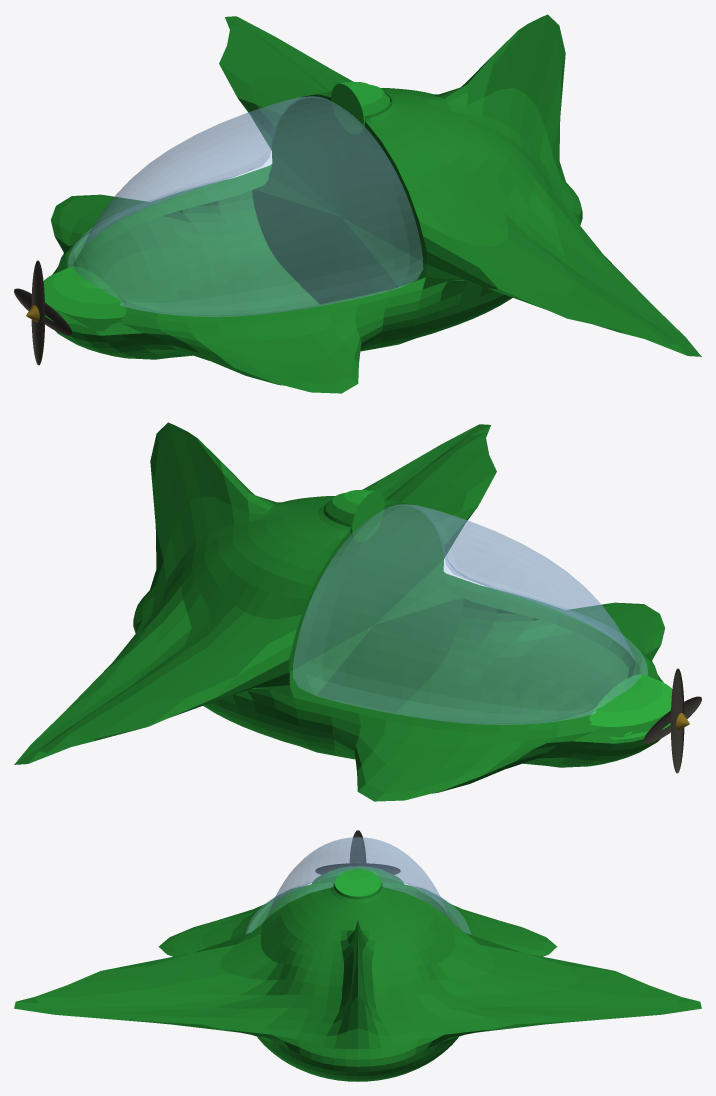
The model's file is Plane2Regular.fbx.
3 views of the same model, one above another, from view 1: azimuth 30°, elevation 25°; view 2: azimuth 150°, elevation 25°; view 3: azimuth 270°, elevation 25° (orthographic). The views are drawn at different scales.
Visible parts, largest first — view 1: Cockpit, Canopy, Nose, Inlet, Propeler1, Propeler2; view 2: Cockpit, Canopy, Nose, Inlet, Propeler1, Propeler2; view 3: Cockpit, Canopy, Inlet, Nose, Propeler2, Propeler1.
Part boxes in pixels (x1,y1,x2,y2): Cockpit: (45, 14, 701, 393); Canopy: (68, 96, 422, 316); Nose: (43, 266, 126, 331); Inlet: (331, 82, 390, 134); Propeler1: (31, 260, 45, 365); Propeler2: (14, 288, 72, 335); Cockpit: (14, 422, 670, 801); Canopy: (293, 504, 647, 724); Nose: (589, 674, 672, 739); Inlet: (325, 490, 384, 542); Propeler1: (670, 668, 684, 773); Propeler2: (643, 696, 701, 743); Cockpit: (14, 882, 701, 1081); Canopy: (245, 837, 470, 934); Inlet: (334, 869, 381, 896); Nose: (312, 866, 403, 884); Propeler2: (315, 863, 400, 874); Propeler1: (350, 830, 365, 862).
Bounding box in the file's own units: 461 × 203 × 684.
